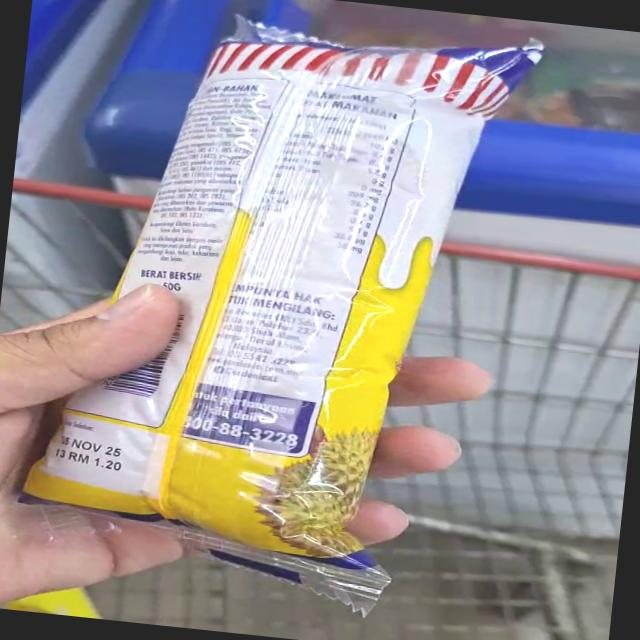Roti: (7, 0, 551, 596)
